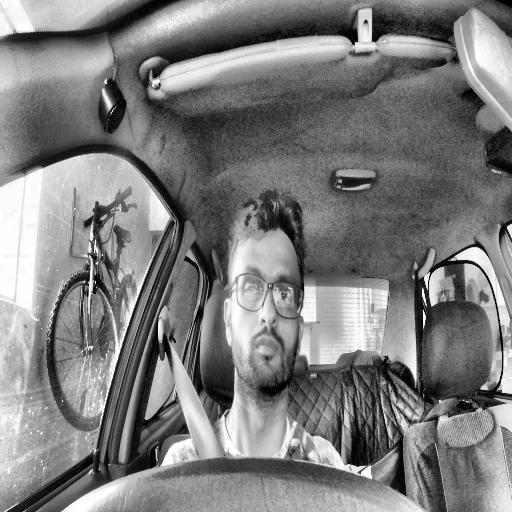awake: (224, 192, 306, 404)
